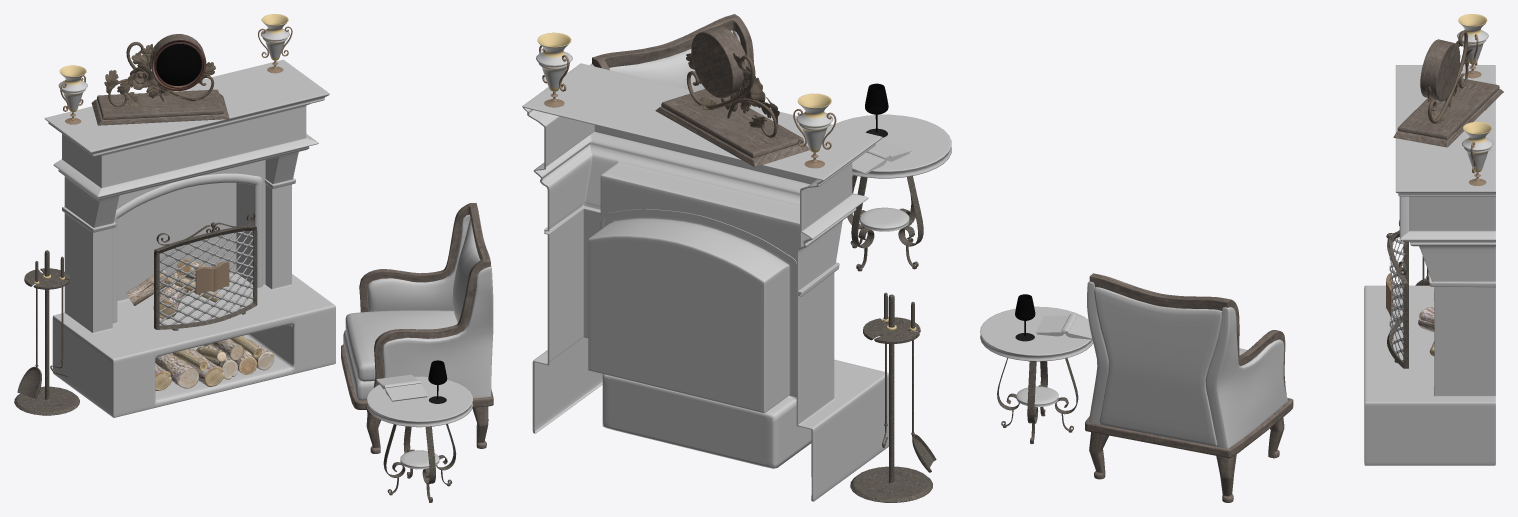
The model's file is Fireplace.fbx.
The picture shows the model from 3 angles, left to right: view 1: azimuth 30°, elevation 25°; view 2: azimuth 150°, elevation 25°; view 3: azimuth 270°, elevation 25°; orthographic projection. The views are drawn at different scales.
Visible parts, largest first — view 1: MSH_Fireplace, MSH_Pillows, MSH_Decoration (×2), GRP_Wood, MSH_Border, MSH_ClockBase, MSH_FireGrate_Inside, MSH_Top, MSH_FireplaceAccecoriesBase, MSH_Legs (×2), MSH_Vaso (×2), MSH_ClockGlass (+7 smaller); view 2: MSH_Fireplace, MSH_ClockBase, MSH_FireplaceAccecoriesBase, MSH_Top, MSH_Clock, MSH_Vaso (×2), MSH_Border, MSH_Legs, MSH_Pillows, MSH_ClockLeaves, MSH_Bottom, MSH_Book_Face (+3 smaller); view 3: MSH_Fireplace, MSH_Pillows, MSH_Top, MSH_ClockBase, MSH_Legs (×2), MSH_Border, MSH_WoodBase, MSH_Vaso (×2), MSH_Clock, MSH_Decoration, MSH_FireGrate_Inside, MSH_Book_Face (+3 smaller).
Part boxes in pixels (x1,y1,x2,y2): MSH_Fireplace: (44, 59, 335, 417); MSH_Pillows: (343, 214, 493, 399); MSH_Decoration (×2): (112, 173, 262, 330); GRP_Wood: (126, 258, 274, 390); MSH_Border: (359, 203, 490, 387); MSH_ClockBase: (91, 89, 229, 125); MSH_FireGrate_Inside: (159, 231, 253, 325); MSH_Top: (366, 376, 472, 427); MSH_FireplaceAccecoriesBase: (14, 250, 79, 415); MSH_Legs (×2): (366, 406, 488, 502); MSH_Vaso (×2): (58, 14, 289, 112); MSH_ClockGlass: (156, 44, 201, 86); MSH_Fireplace: (522, 63, 888, 501); MSH_ClockBase: (655, 89, 809, 167); MSH_FireplaceAccecoriesBase: (850, 294, 932, 502); MSH_Top: (835, 114, 951, 178); MSH_Clock: (691, 26, 748, 98); MSH_Vaso (×2): (536, 32, 833, 152); MSH_Border: (592, 14, 753, 70); MSH_Legs: (847, 175, 923, 271); MSH_Pillows: (590, 30, 740, 96); MSH_ClockLeaves: (686, 53, 779, 128); MSH_Bottom: (860, 207, 909, 231); MSH_Book_Face: (852, 139, 911, 173); MSH_Fireplace: (1364, 65, 1495, 465); MSH_Pillows: (1087, 281, 1288, 448); MSH_Top: (980, 306, 1092, 361); MSH_ClockBase: (1393, 78, 1503, 147); MSH_Legs (×2): (997, 358, 1284, 502); MSH_Border: (1089, 273, 1286, 394); MSH_WoodBase: (1085, 393, 1293, 458); MSH_Vaso (×2): (1457, 14, 1493, 172); MSH_Clock: (1420, 39, 1460, 101); MSH_Decoration: (1386, 220, 1408, 368); MSH_FireGrate_Inside: (1389, 237, 1404, 361); MSH_Book_Face: (1035, 314, 1091, 338).
Bounding box in the file's own units: 11.18 × 9.63 × 12.76.
